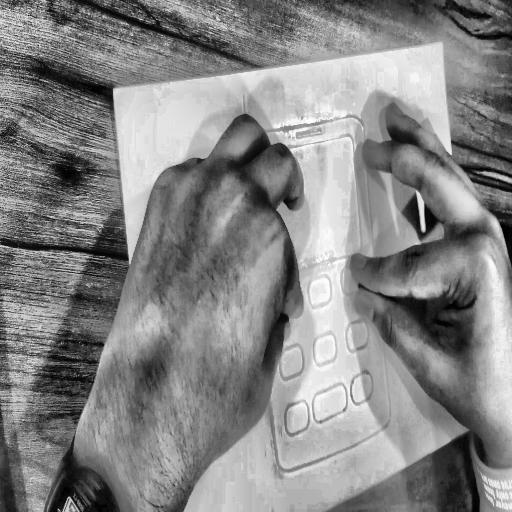bottom_right: (477, 416, 485, 428)
mobile: (235, 67, 404, 494)
top_left: (111, 85, 118, 96)
top_right: (439, 38, 446, 50)
